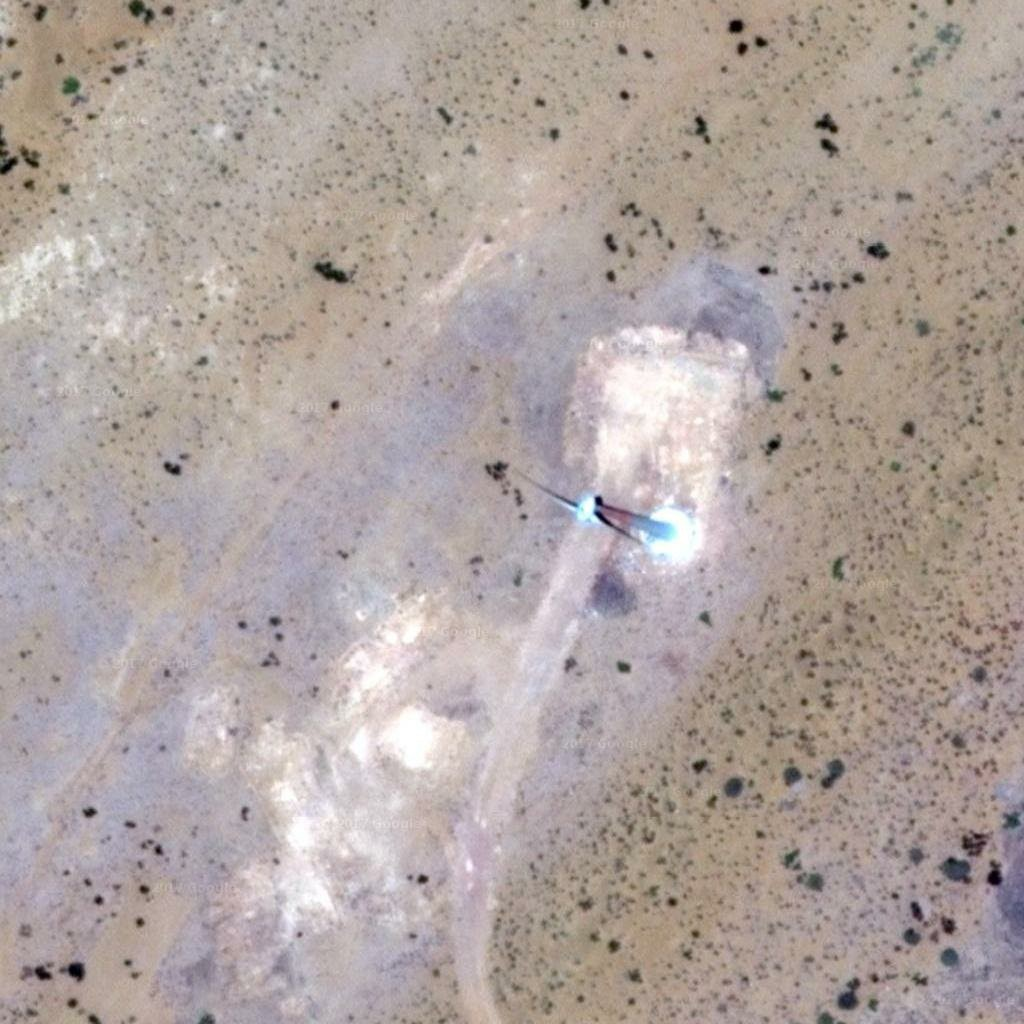Windmill: (504, 460, 699, 561)
